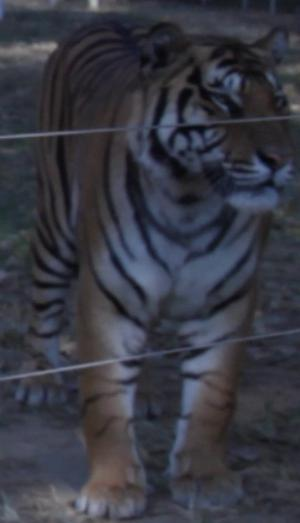tiger: (29, 18, 291, 516)
